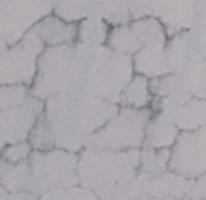fissura: (6, 9, 205, 200)
